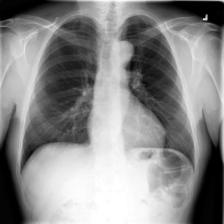normal: (17, 14, 200, 180)
